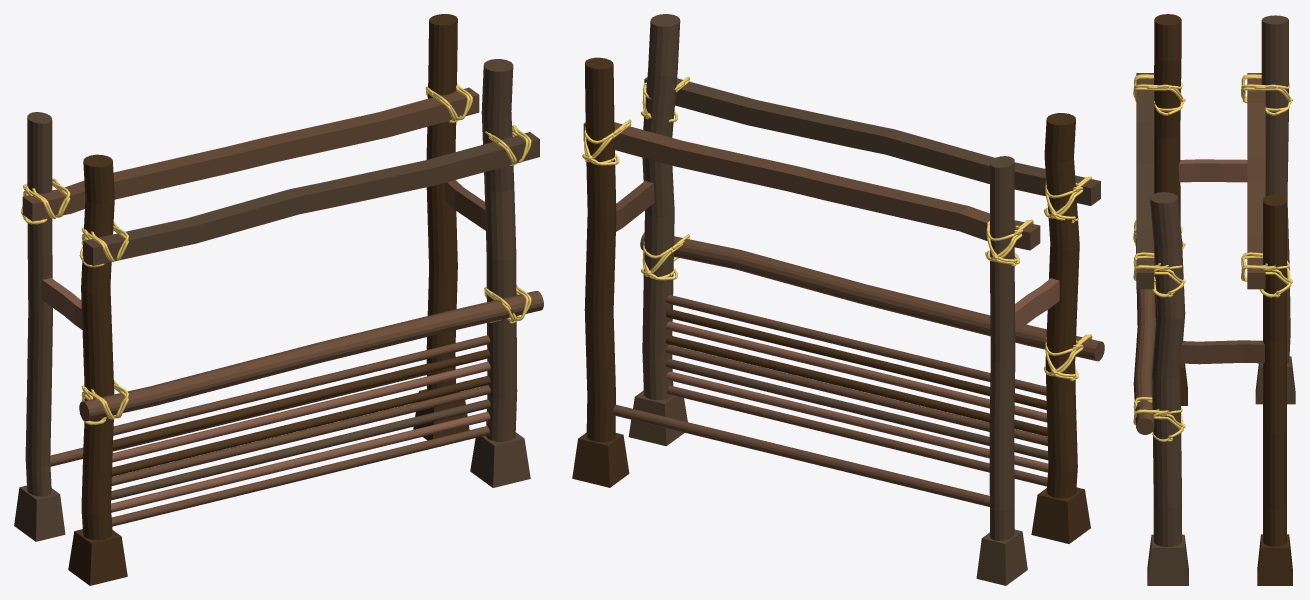
File: telar.fbx
3 views of the same model, side by side, from view 1: azimuth 30°, elevation 25°; view 2: azimuth 150°, elevation 25°; view 3: azimuth 270°, elevation 25° (orthographic). The views are drawn at different scales.
Visible parts, largest first — view 1: Cylinder.002, Cube.001, Cylinder.001, Cube.004, Cylinder.003, Cube, Cylinder.004, Cube.012, Cube.011, Cube.013, Cube.007, Cube.006 (+9 smaller); view 2: Cylinder.004, Cylinder.002, Cylinder.001, Cylinder.003, Cube.004, Cube.001, Cube, Cube.005, Cube.011, Cube.006, Cube.012, Cube.013 (+9 smaller); view 3: Cylinder.001, Cylinder.004, Cylinder.003, Cylinder.002, Cube.001, Cube.004, Cube, Cube.002, Cube.003, BézierCurve.003, BézierCurve.001, BézierCurve.
Part boxes in pixels (x1,y1,x2,y2): Cylinder.002: (68,154,127,585); Cube.001: (83,132,539,265); Cylinder.001: (470,59,530,487); Cube.004: (22,87,479,221); Cylinder.003: (14,112,65,541); Cube: (79,291,543,421); Cylinder.004: (413,14,469,440); Cube.012: (111,399,490,500); Cube.011: (111,411,490,512); Cube.013: (111,385,490,485); Cube.007: (112,361,490,462); Cube.006: (112,376,490,476); Cylinder.004: (572,57,629,487); Cylinder.002: (1031,113,1090,543); Cylinder.001: (628,14,687,446); Cylinder.003: (976,156,1027,585); Cube.004: (583,122,1040,250); Cube.001: (644,77,1100,205); Cube: (640,232,1104,361); Cube.005: (612,404,989,506); Cube.011: (666,371,1048,472); Cube.006: (665,335,1047,436); Cube.012: (666,359,1048,460); Cube.013: (665,345,1047,446); Cylinder.001: (1147,192,1188,585); Cylinder.004: (1257,194,1292,585); Cylinder.003: (1255,15,1295,404); Cylinder.002: (1154,14,1187,405); Cube.001: (1136,73,1154,289); Cube.004: (1247,73,1265,289); Cube: (1133,239,1155,434); Cube.002: (1179,340,1265,364); Cube.003: (1178,159,1247,182); BézierCurve.003: (1241,74,1292,297); BézierCurve.001: (1133,74,1185,297); BézierCurve: (1133,220,1185,441).
Size of the model in its own units: 1717 by 1489 by 579.
